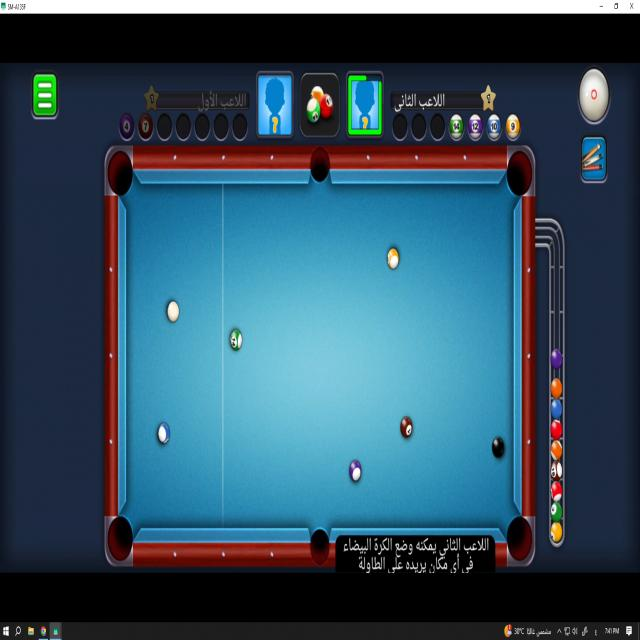object_ball: (230, 330, 242, 350), (492, 437, 504, 457), (350, 460, 361, 481), (387, 248, 398, 269), (401, 417, 412, 437), (158, 423, 169, 443)
white_cue_ball: (167, 302, 179, 322)
